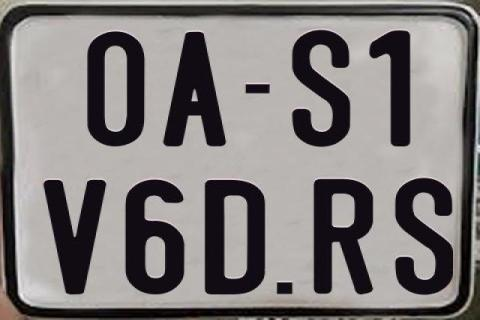0: (126, 179, 188, 296), (84, 29, 147, 144), (368, 30, 414, 146)
A: (161, 30, 224, 144)
D: (204, 178, 267, 296)
R: (314, 177, 374, 296)
S: (289, 29, 352, 148), (392, 176, 453, 294)
V: (42, 180, 106, 298)
